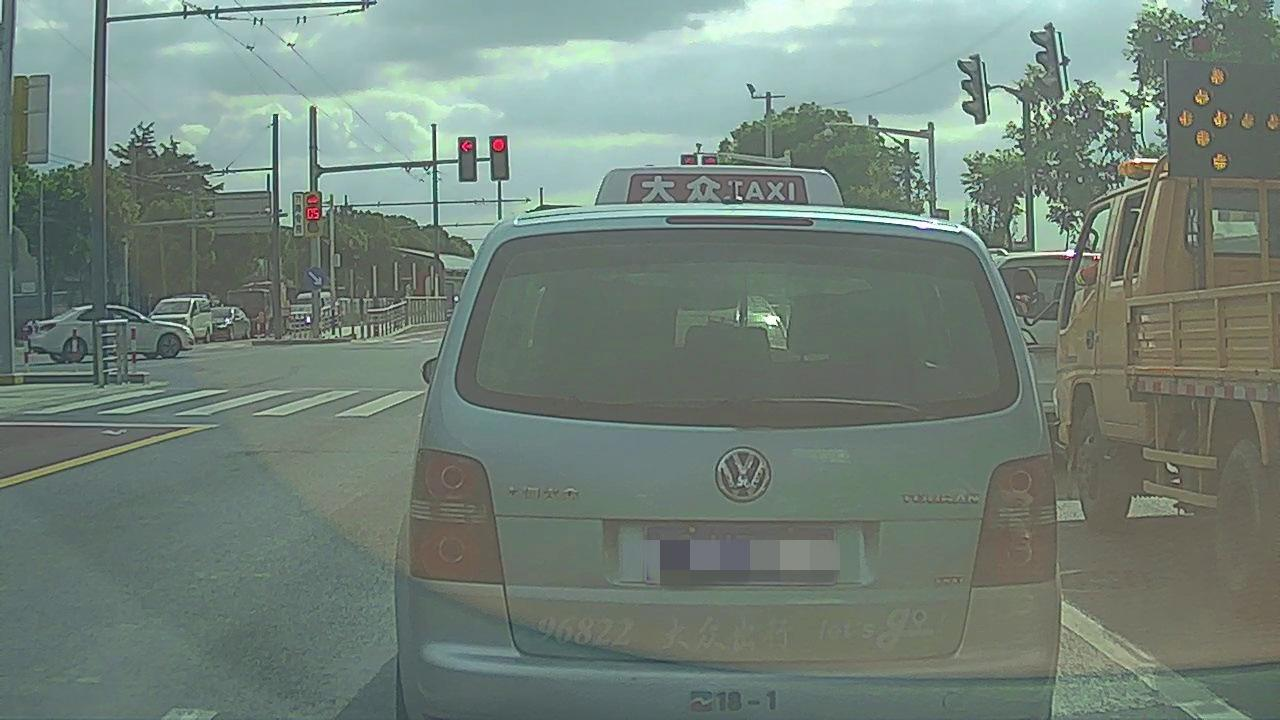traffic_light: (489, 136, 509, 180), (458, 137, 476, 182)
